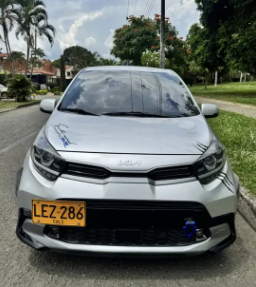placa: (32, 199, 86, 227)
